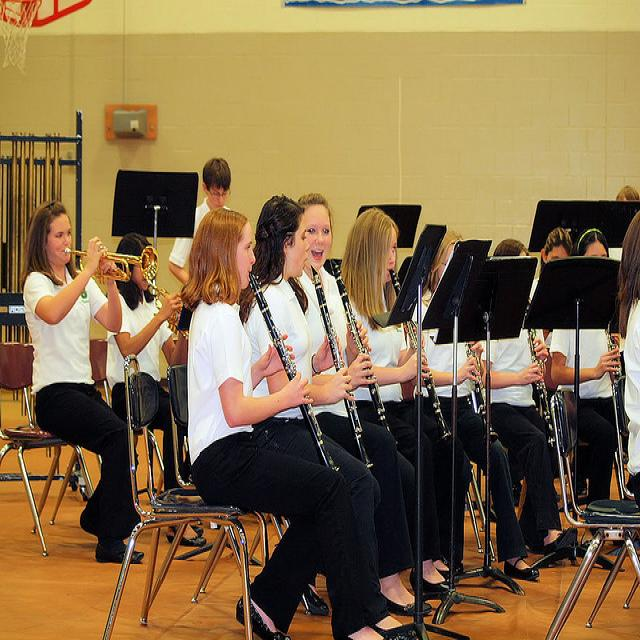clarinet: (248, 272, 340, 480), (309, 266, 375, 470), (386, 265, 452, 442), (330, 259, 390, 432), (464, 340, 494, 430), (526, 329, 553, 425), (606, 330, 626, 393)
